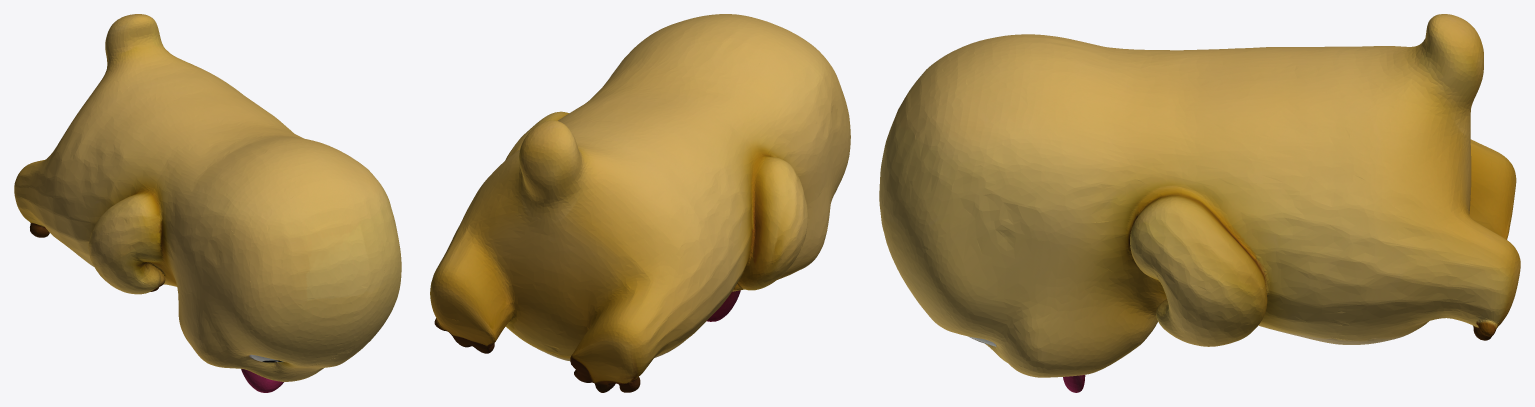
File: big_nailong.obj
3 renders of one model, left to right at view 1: azimuth 30°, elevation 25°; view 2: azimuth 150°, elevation 25°; view 3: azimuth 270°, elevation 25°, orthographic. The views are drawn at different scales.
Parts seen in each view (by area): view 1: big_nailong; view 2: big_nailong; view 3: big_nailong.
Boxes of the visible parts, x1,y1,x2,y2 form: big_nailong: (14,14,401,392); big_nailong: (430,14,850,392); big_nailong: (879,14,1520,392).
Size of the model in its own units: 1.27 by 1.28 by 1.98.
